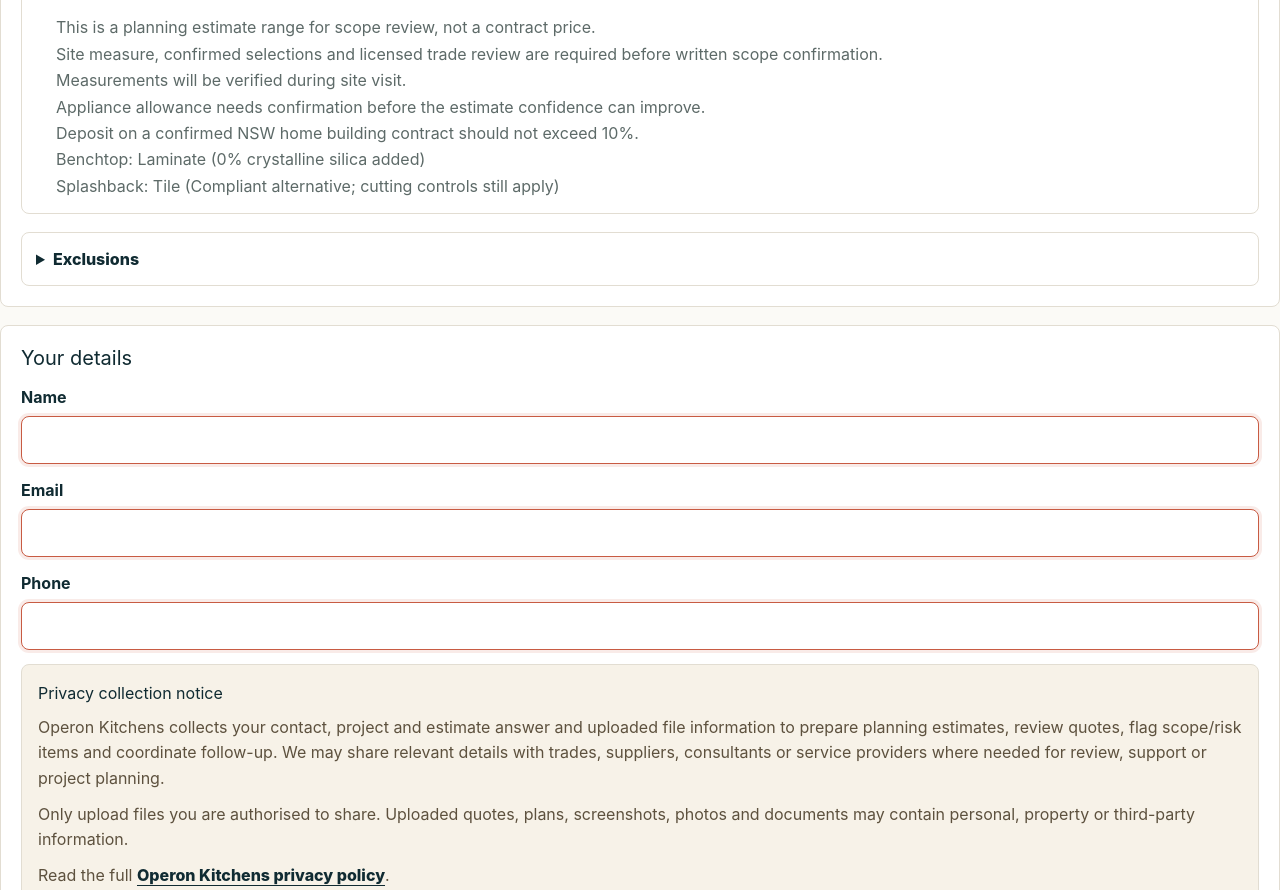
Test: privacy collection notice › blocks quote submission until the collection notice is acknowledged
The image size is (1280, 890).
(page scrolled)
Type "Vincent" into the field labelled "Name".
click(640, 440); type("Vincent")  # box [21,416,1259,464]
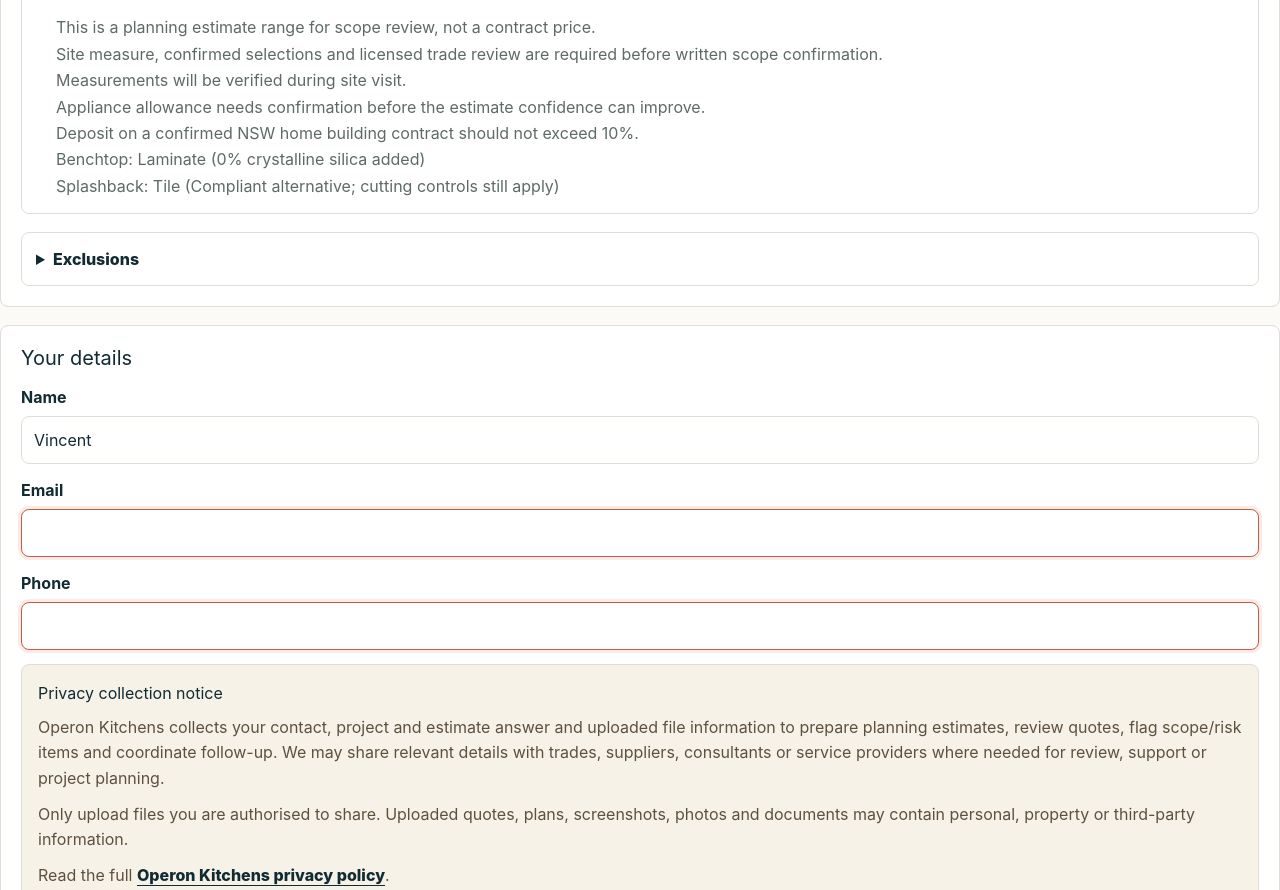
Type "vincent@example.com" into the field labelled "Email".
click(640, 533); type("vincent@example.com")  # box [21,509,1259,557]
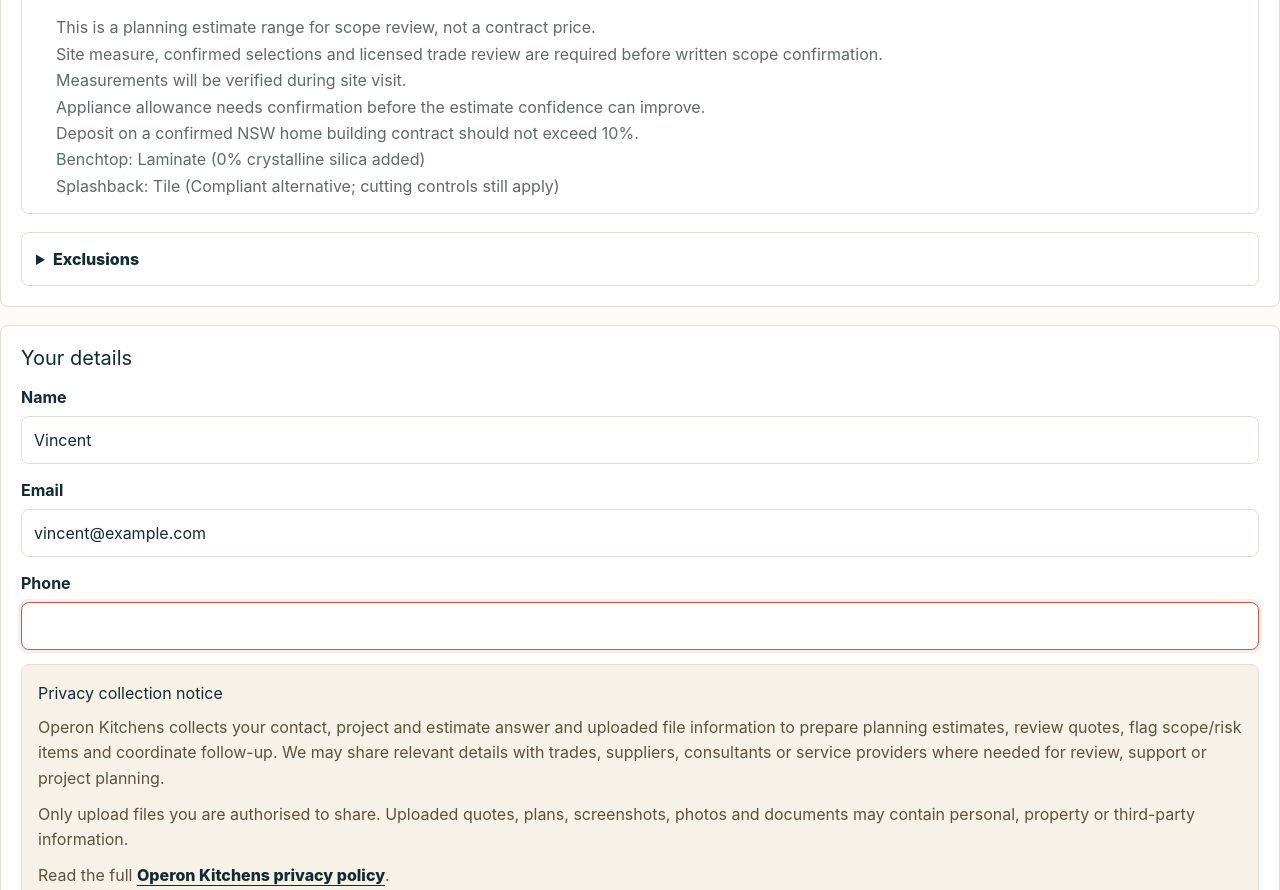
Type "0400000000" into the field labelled "Phone".
click(640, 626); type("0400000000")  # box [21,602,1259,650]
(page scrolled)
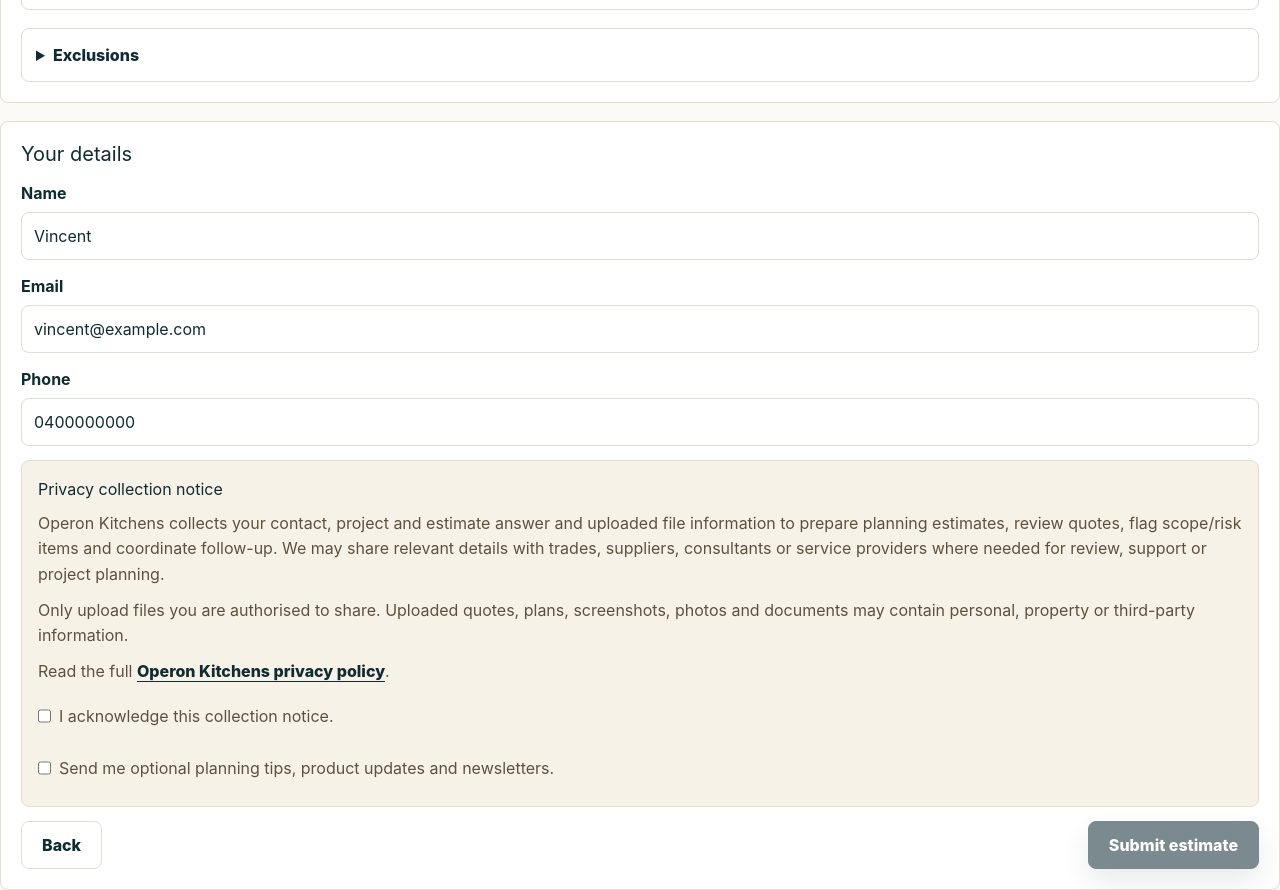
Expected: the button "Submit estimate" is disabled, [1088,821,1259,869]
Click the checkbox labelled "I acknowledge this collection notice.".
click(44, 716)  # box [38,694,51,738]
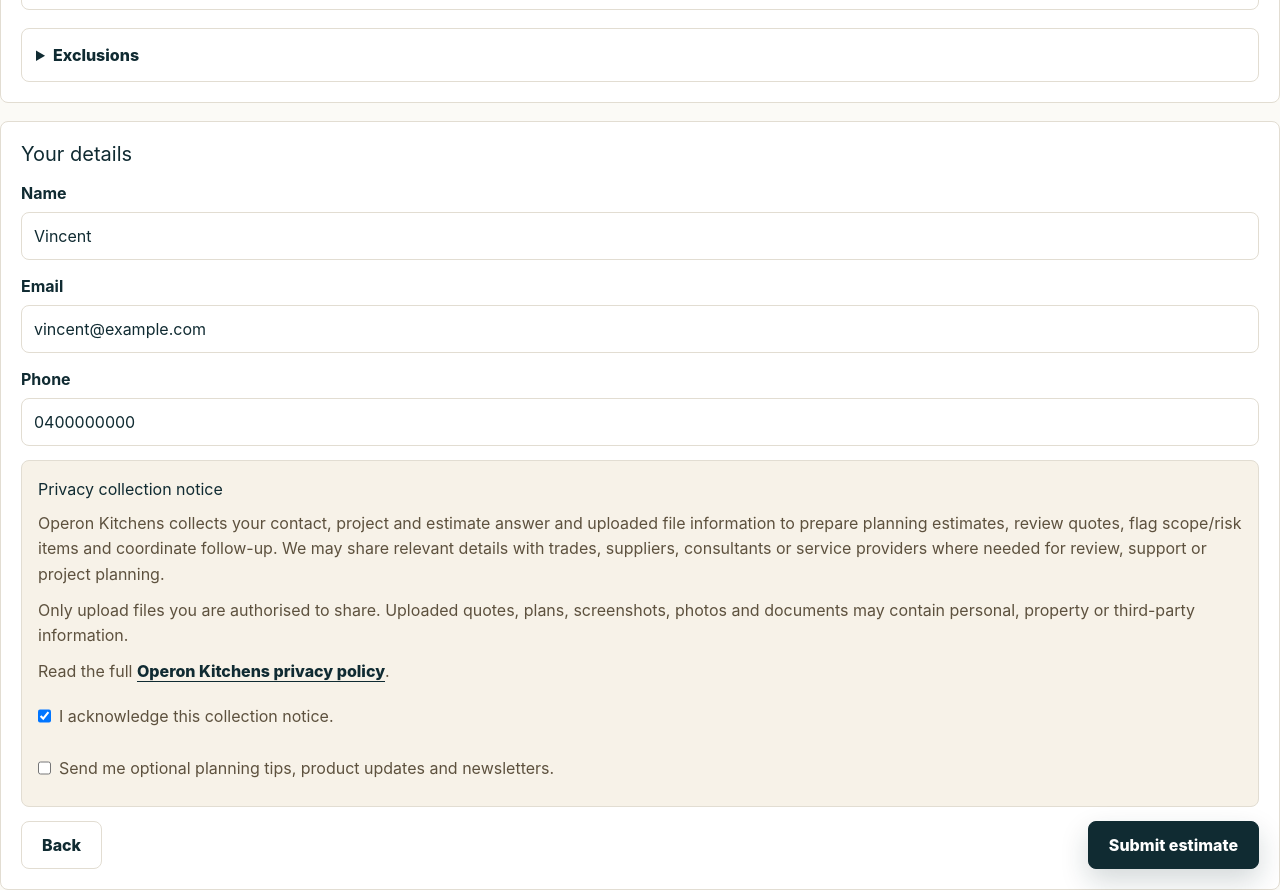
Expected: the checkbox labelled "optional planning tips" is not checked, [38,746,51,790]
Now the button "Submit estimate" is enabled, box [1088,821,1259,869]
